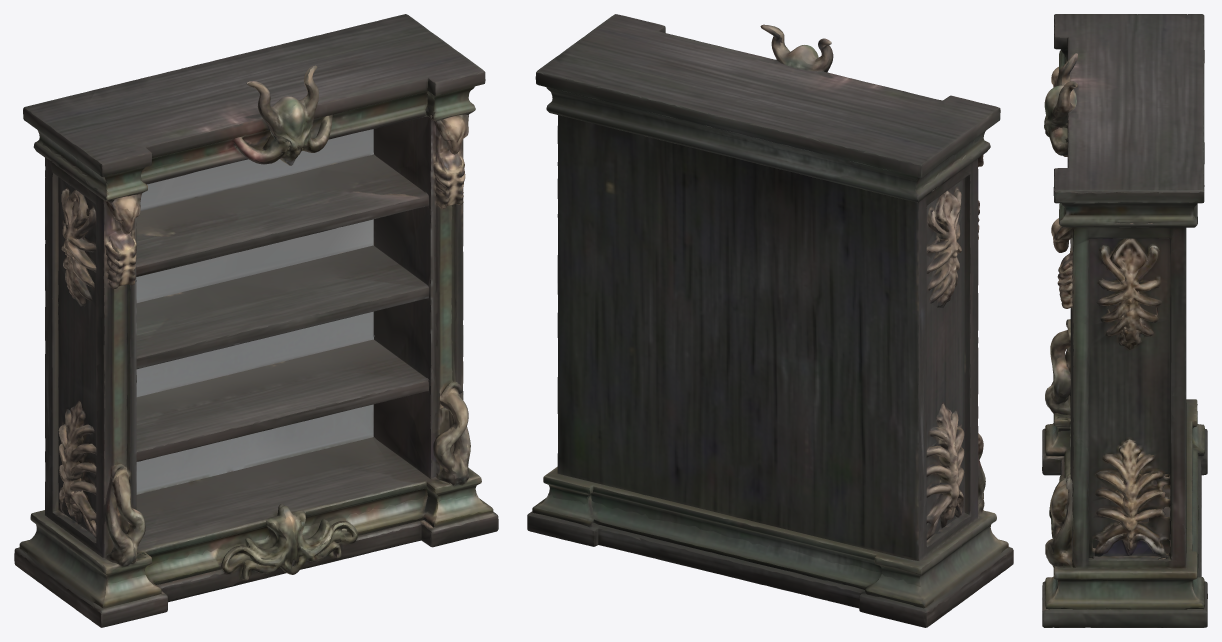
The model's file is demonic-cthulhu-display-rack-optimized.glb.
3 views of the same model, side by side, from view 1: azimuth 30°, elevation 25°; view 2: azimuth 150°, elevation 25°; view 3: azimuth 270°, elevation 25° (orthographic). The views are drawn at different scales.
Visible parts, largest first — view 1: geometry_0; view 2: geometry_0; view 3: geometry_0.
Boxes of the visible parts, bbox=[...] form: geometry_0: bbox=[14, 14, 498, 627]; geometry_0: bbox=[527, 14, 1013, 627]; geometry_0: bbox=[1042, 14, 1207, 627].
Size of the model in its own units: 1.27 by 1.5 by 0.4809.
Materials: 1 (1 with a texture image).
